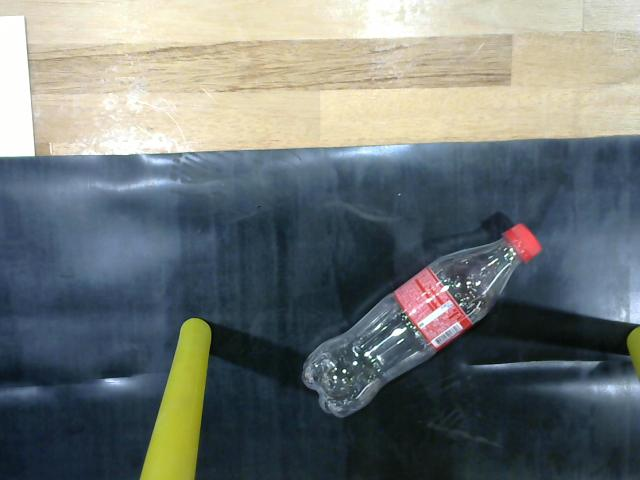bottle: (291, 211, 553, 431)
